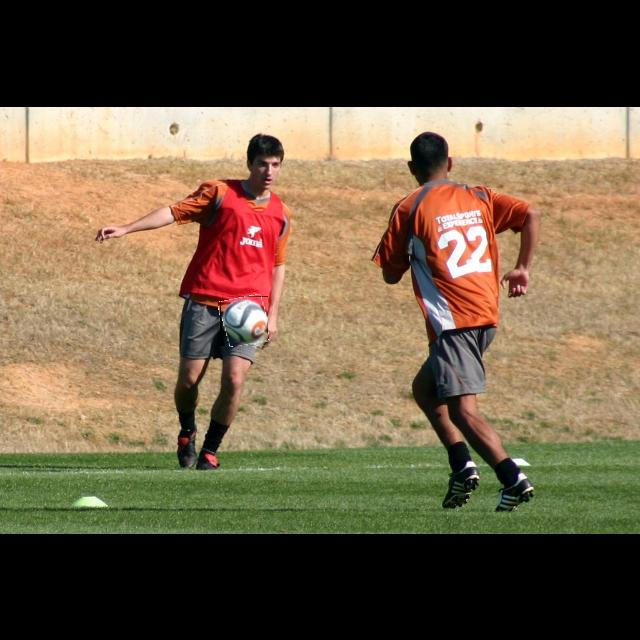Football: (220, 296, 268, 346)
